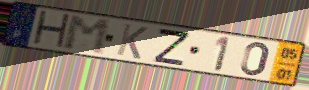0: (239, 41, 272, 77)
1: (214, 35, 232, 74)
H: (30, 8, 73, 51)
K: (114, 22, 150, 61)
M: (62, 14, 113, 57)
Z: (152, 26, 192, 67)
